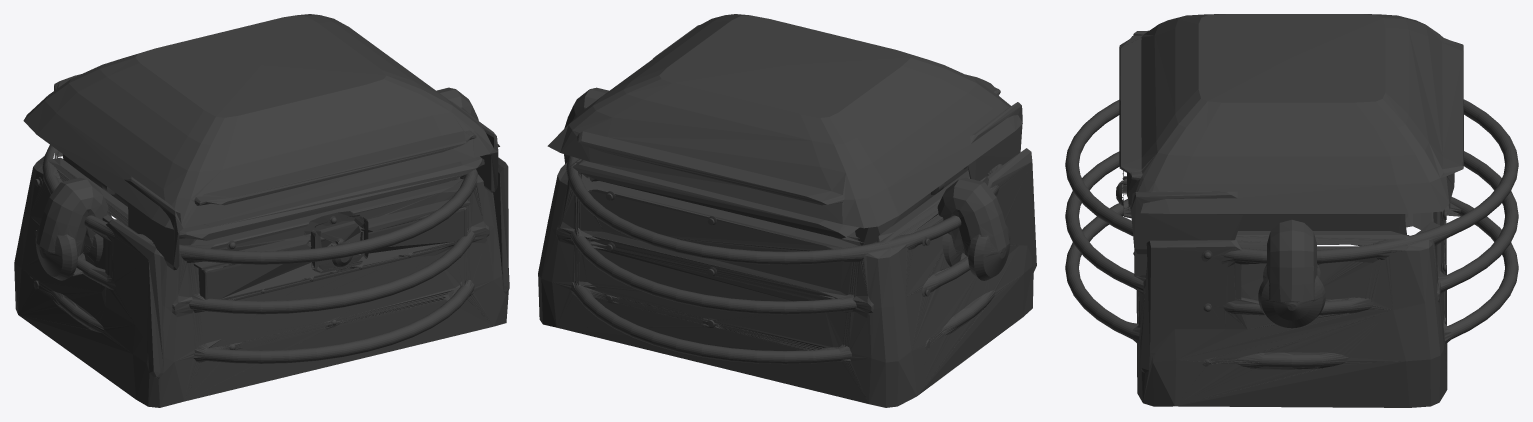
The model's file is tmp_lockplate_verify.glb.
The picture shows the model from 3 angles, left to right: view 1: azimuth 30°, elevation 25°; view 2: azimuth 150°, elevation 25°; view 3: azimuth 270°, elevation 25°; orthographic projection. The views are drawn at different scales.
Visible parts, largest first — view 1: body, lid_panel, front_hatch, handle_l, lock_plate, handle_r; view 2: body, lid_panel, handle_l, handle_r; view 3: lid_panel, body, handle_r.
Boxes of the visible parts, x1,y1,x2,y2 form: body: [14, 145, 509, 407]; lid_panel: [23, 14, 499, 270]; front_hatch: [196, 202, 470, 300]; handle_l: [35, 167, 137, 291]; lock_plate: [217, 193, 438, 273]; handle_r: [436, 87, 478, 179]; body: [538, 148, 1036, 407]; lid_panel: [547, 14, 1022, 245]; handle_l: [899, 177, 1010, 280]; handle_r: [564, 87, 608, 178]; lid_panel: [1119, 14, 1463, 254]; body: [1065, 99, 1518, 407]; handle_r: [1236, 220, 1377, 329].
Size of the model in its own units: 80.55 by 44.99 by 68.7.
1 material, 1 textured.
